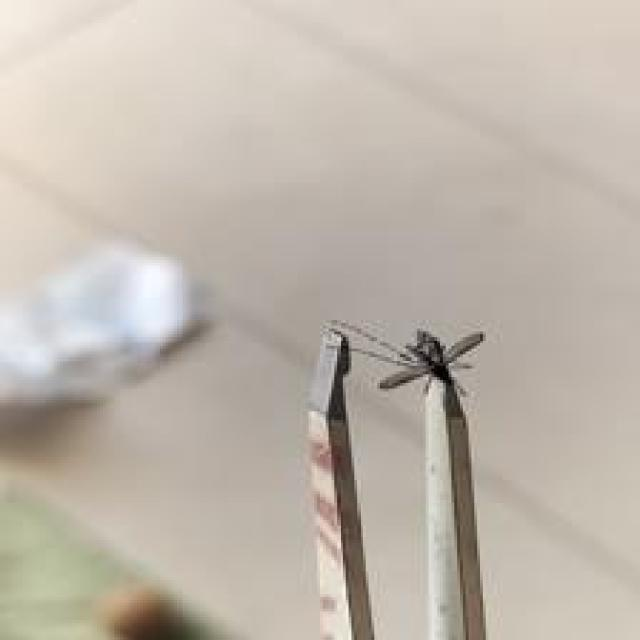Aedes albopictus: (310, 317, 513, 640)
